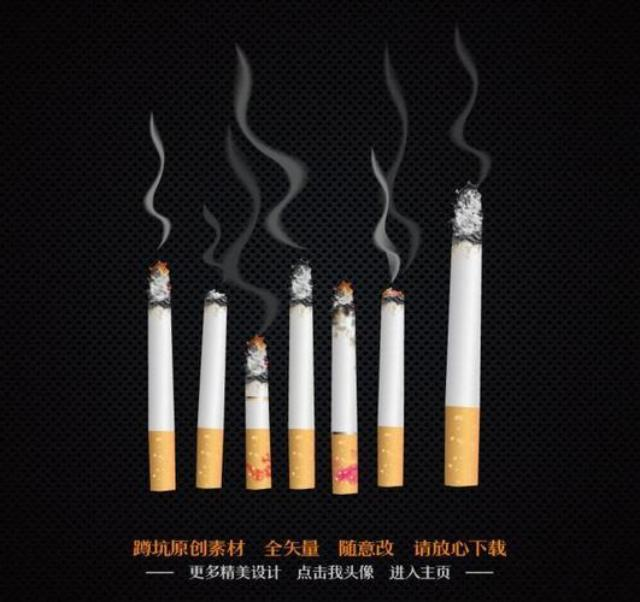Cigarette: (444, 184, 484, 487), (148, 260, 178, 494), (288, 259, 316, 489), (330, 282, 360, 496), (196, 290, 228, 490), (378, 288, 404, 487), (245, 335, 273, 491)
